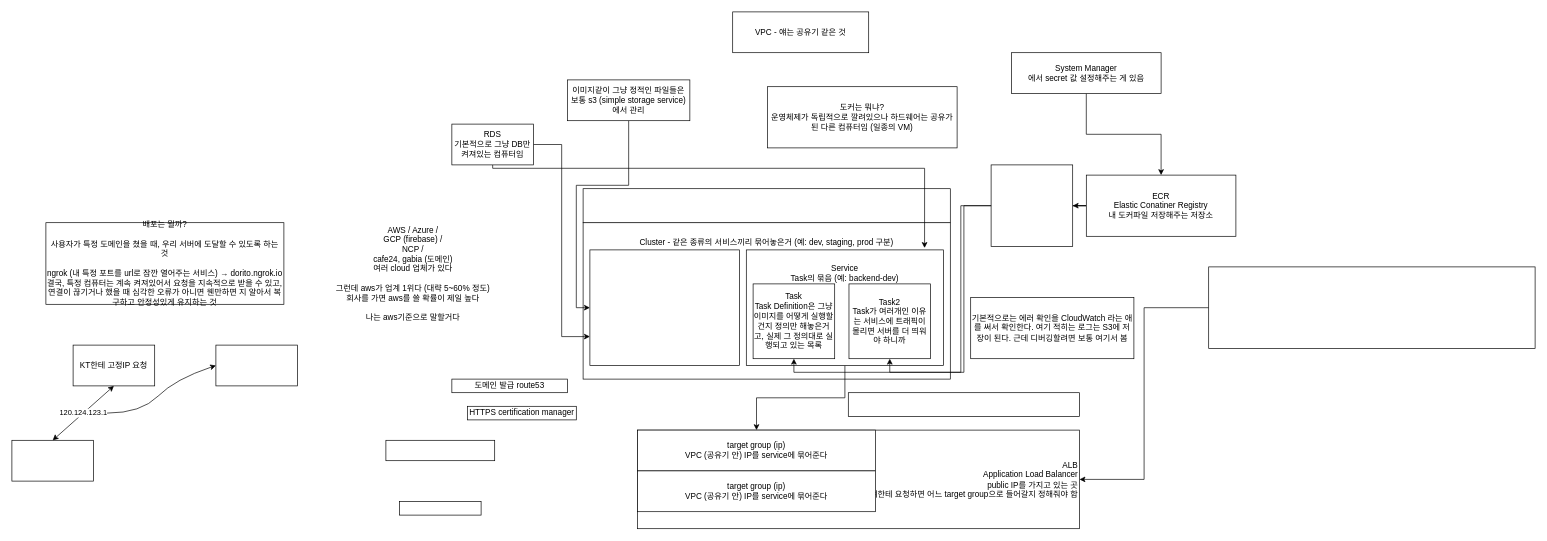
Some shapes in this 1547 by 541 pixel diagram are drawn without their labels. The shapes that lost their labels are listed below. From the top down, each one's centre as x and y in pixels, then its label:
At point 766,205: "ECS Elastic Container Service 도커를 아마존에 있는 임의의 컴퓨터에 내가 원하는 사양대로 띄워주는 서비스".
At point 1031,205: "Task Definition CPU는 몇개고 RAM은 얼마고 이미지는 뭘 쓰고 포트는 어디를 열고...".
At point 664,307: "다른 서비스 (예: frontend-dev)".
At point 1371,307: "route53 도메인 관리/DNS 등록까지".
At point 256,365: "DNS".
At point 964,404: "CDN이 여기 사이 들어갈 수도 있음 (CloudFront) 얘 장점은 캐싱이 되고, 또 인증서를 알아서 잘 해줘서 편함".
At point 52,460: "서버 컴퓨터 yarn start:prod".
At point 440,450: "실제 서버를 돌리는 컴퓨터 EC2".
At point 440,508: "클라이언트".
